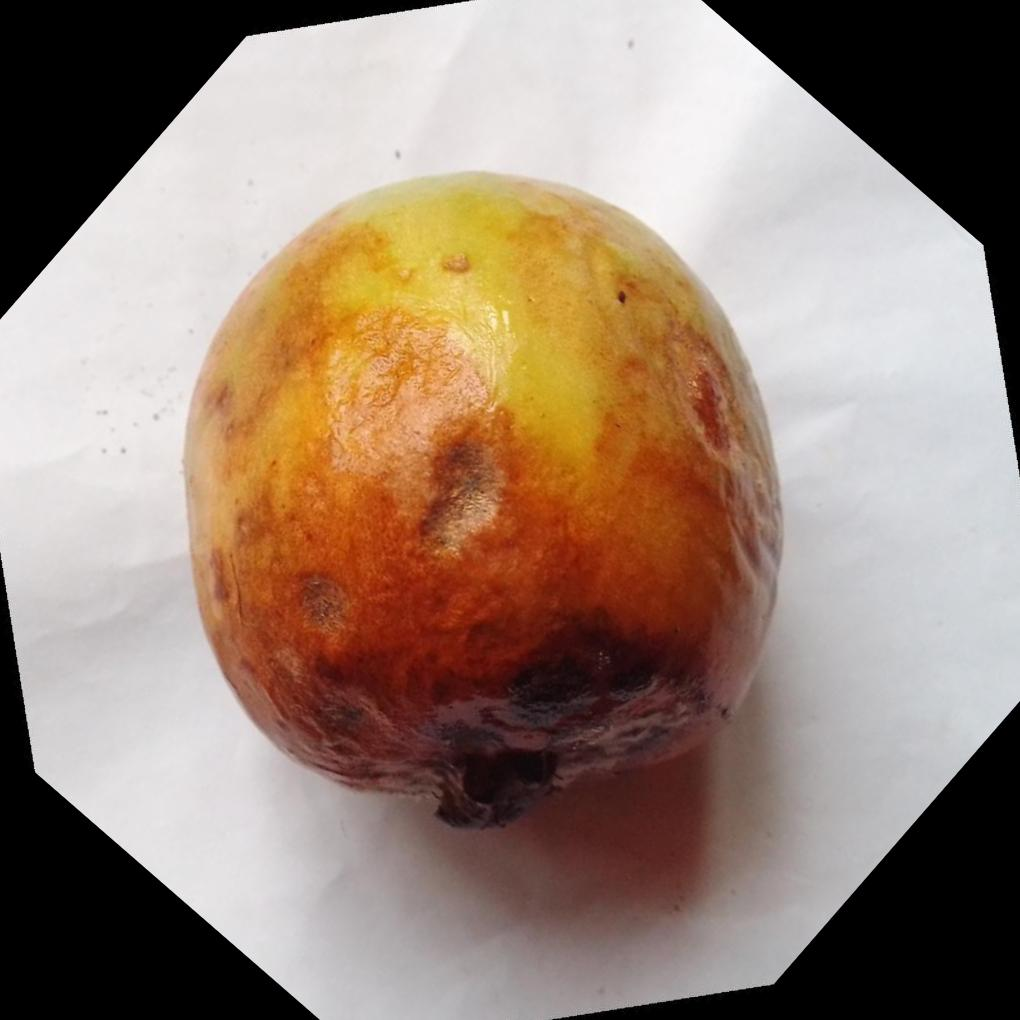FreshOrange: (177, 168, 784, 834)
